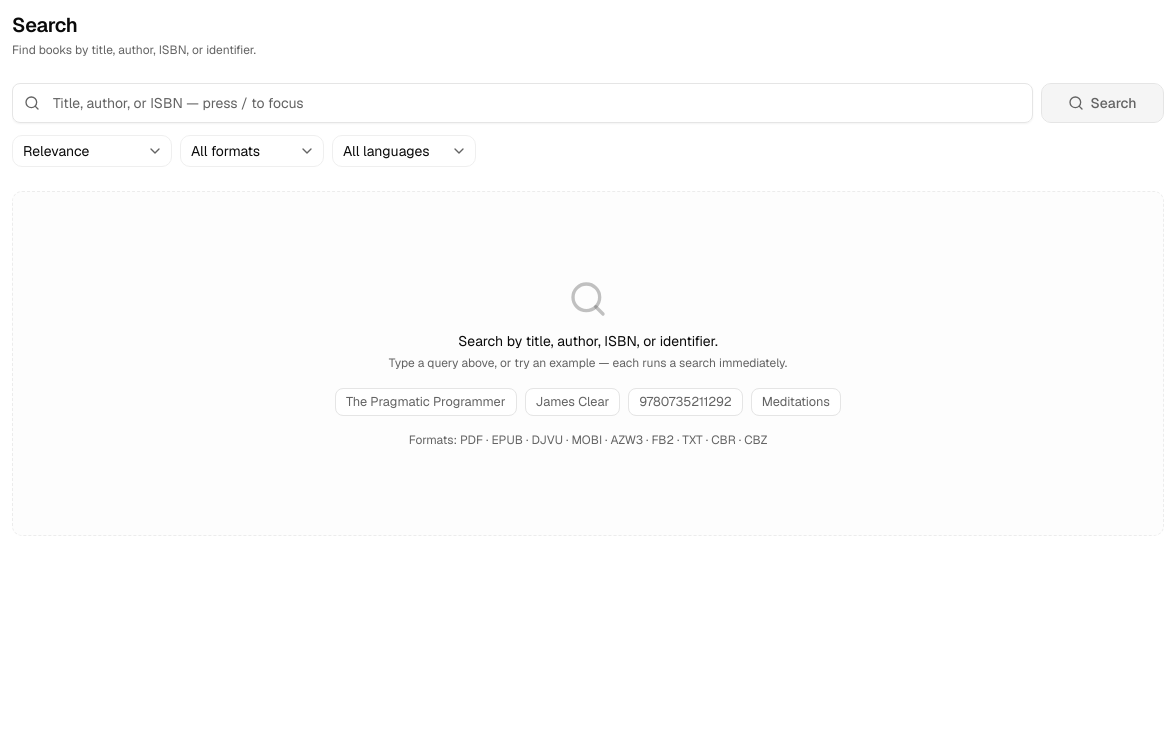
Scenario: Search route public behavior (#58) › requests page 2 when Next is activated
Step 1. Type "habits" into the field named "Search query" → (522, 103), box [12,83,1033,123]
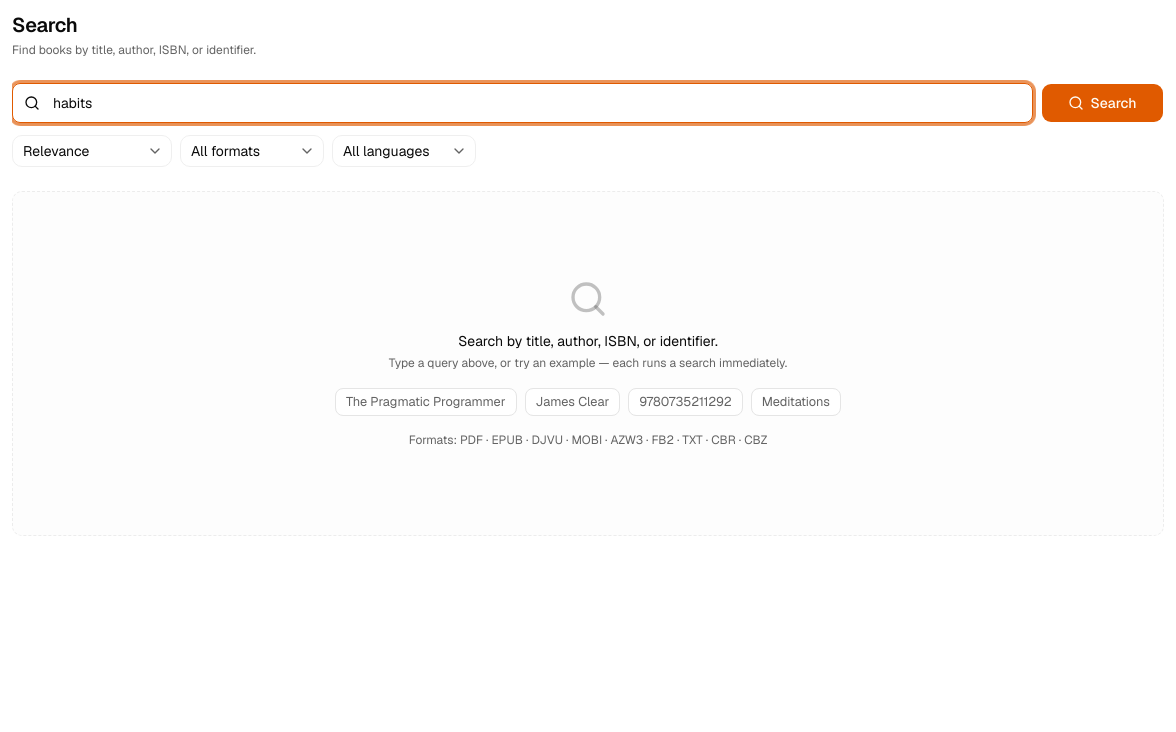
Step 2. Click the button "Search" → (1102, 103), box [1041,83,1164,123]
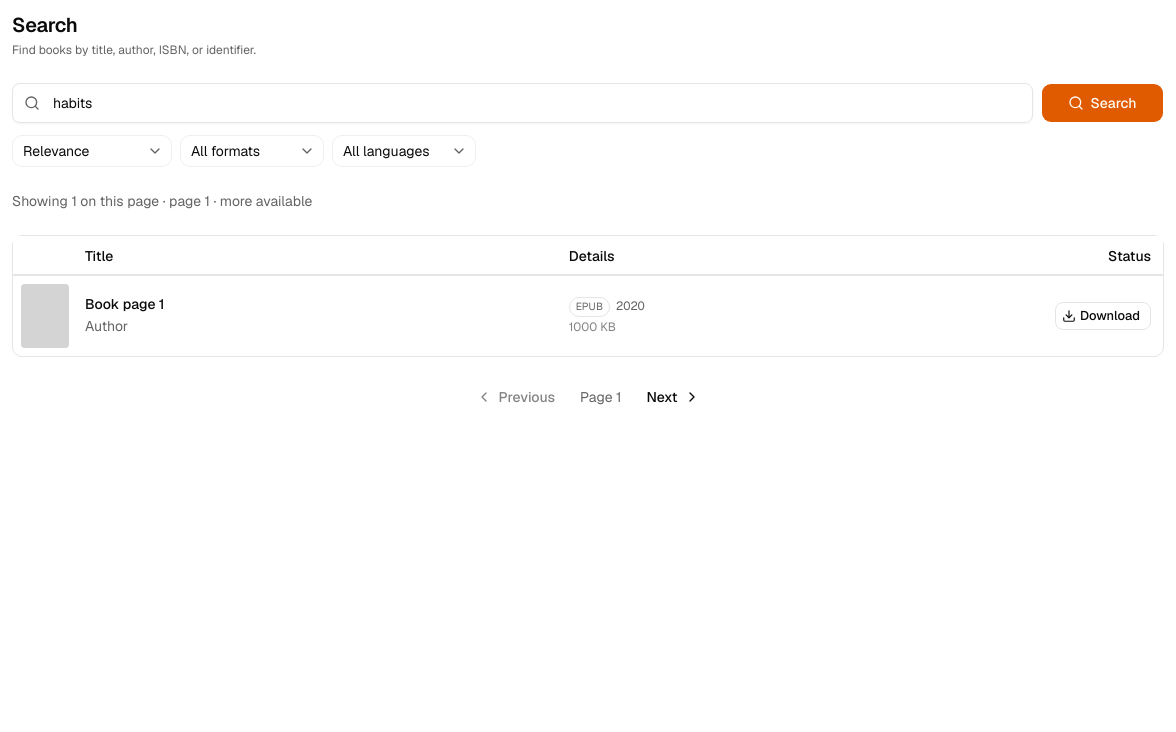
Expected: the text "Book page 1" is shown, [85,295,164,313]
Step 3. Click the button with aria-label "go to next page" → (673, 397), box [646,388,700,406]
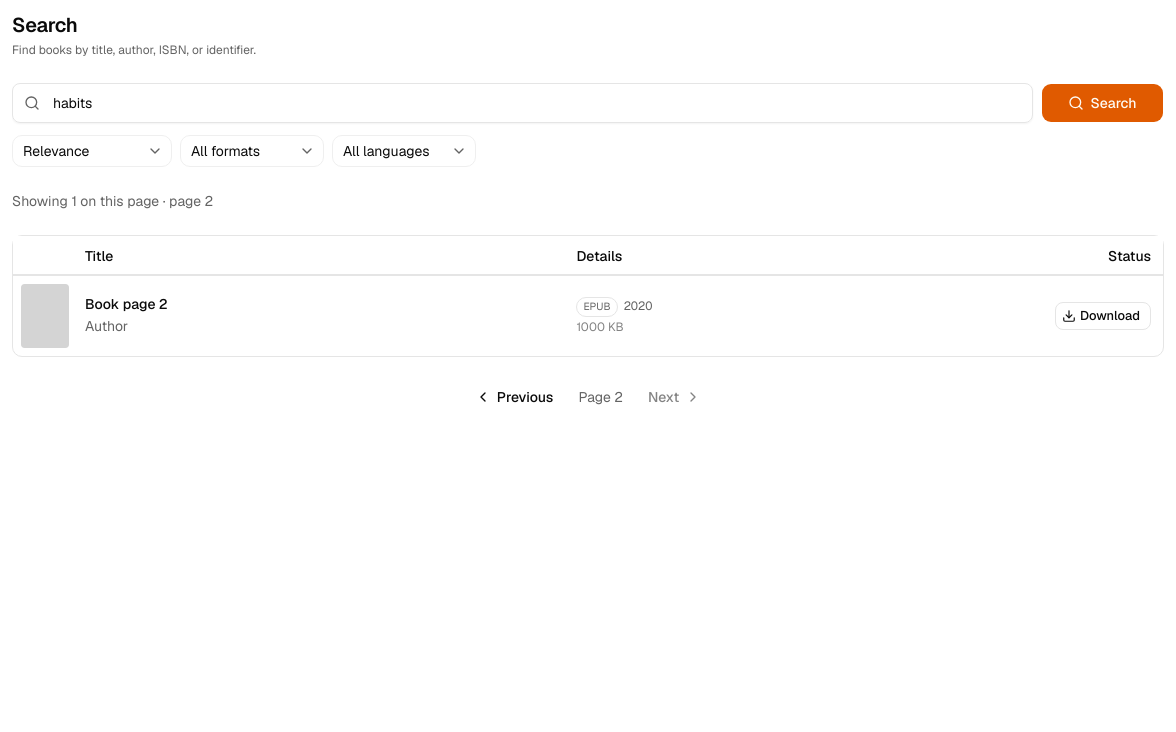
Expected: the text "Book page 2" is shown, [85,295,168,313]
